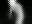person: (8, 1, 27, 24)
